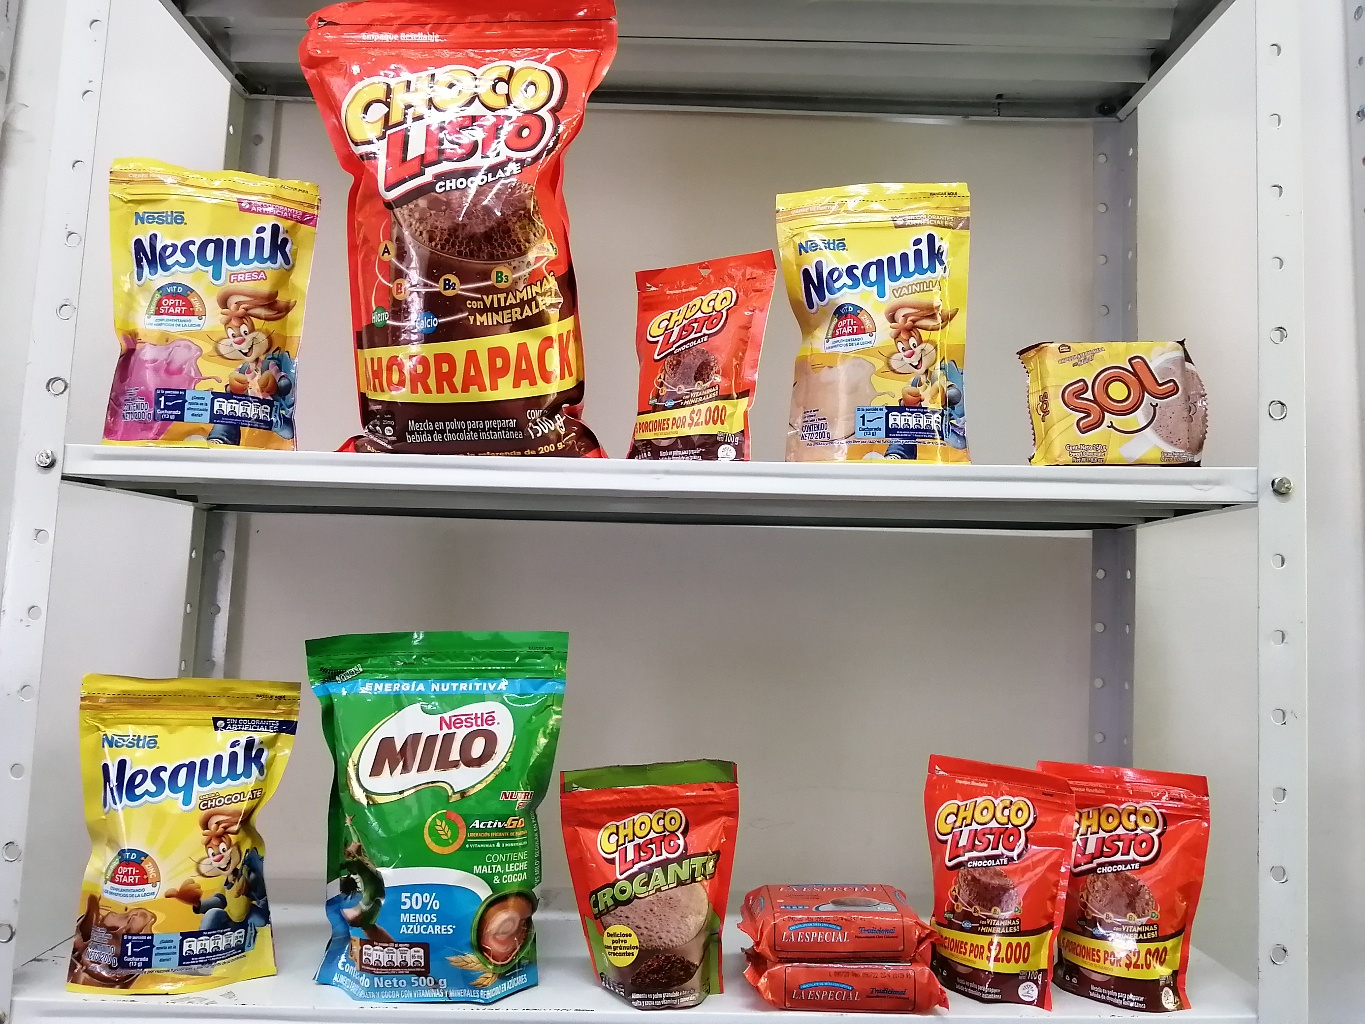COL0170102DYP10000: (558, 764, 737, 1005)
COL0170103DYP1,500: (302, 4, 616, 466)
COL0170103DYP10000: (628, 253, 774, 461)
COL0170205DYP50000: (299, 634, 566, 1002)
COL0170303DYP20000: (83, 672, 302, 994)
COL0170305DYP20000: (102, 158, 312, 446)
COL0170306DYP20000: (776, 187, 983, 463)
